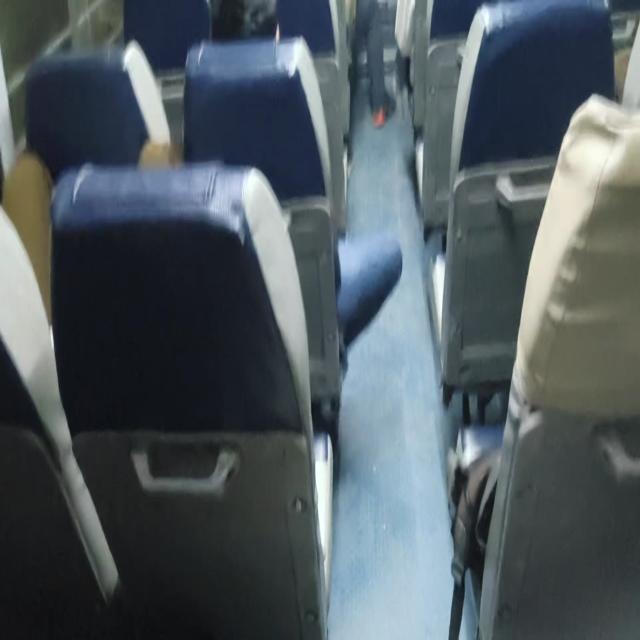person: (1, 4, 402, 637), (446, 21, 639, 636), (0, 152, 123, 620), (350, 0, 391, 128)
